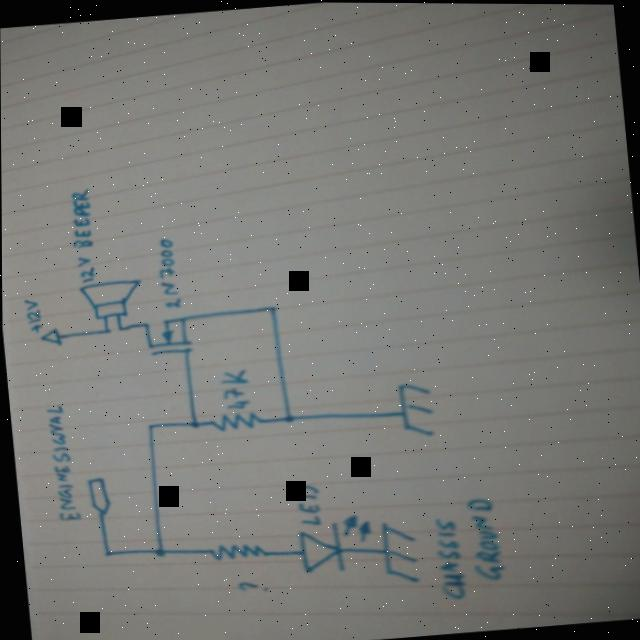diode: (295, 511, 375, 577)
ground: (377, 516, 420, 585), (395, 378, 436, 438)
junction: (152, 545, 167, 556), (280, 412, 295, 422), (266, 301, 279, 312), (189, 419, 202, 428), (144, 420, 155, 429), (101, 549, 111, 556), (100, 326, 110, 333), (117, 324, 126, 331)
resistor: (208, 407, 263, 432), (207, 540, 266, 562)
source: (38, 325, 63, 347)
terminal: (86, 474, 112, 515)
text: (43, 402, 82, 522), (465, 493, 507, 582), (432, 514, 467, 601), (153, 234, 183, 310), (66, 184, 95, 249), (218, 366, 252, 409), (291, 481, 323, 525), (21, 296, 43, 333), (73, 254, 97, 284), (235, 578, 267, 594)
transistor: (141, 313, 193, 357)
